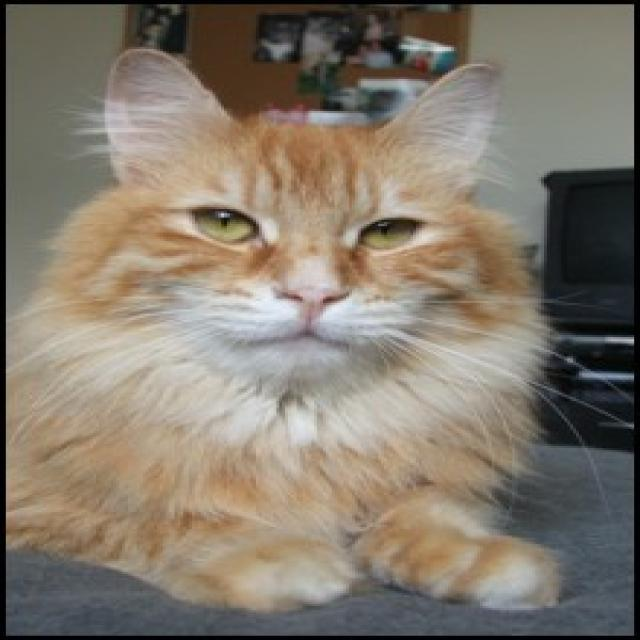Maine_Coon: (102, 45, 494, 380)
